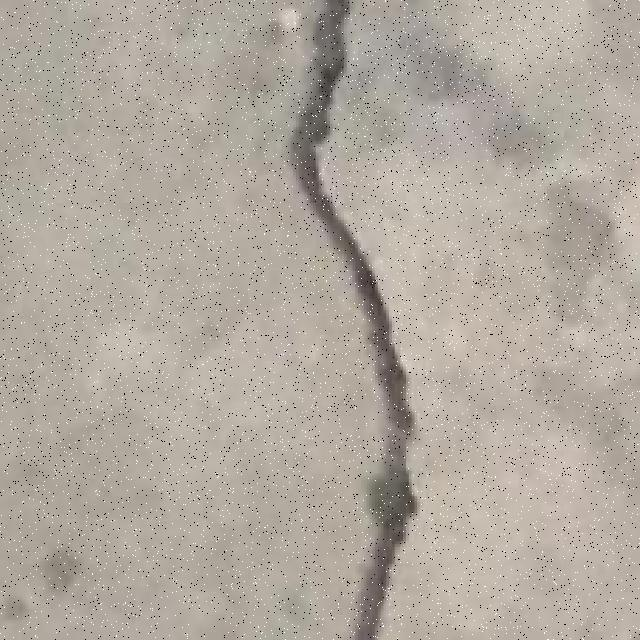Crack: (287, 0, 417, 638)
